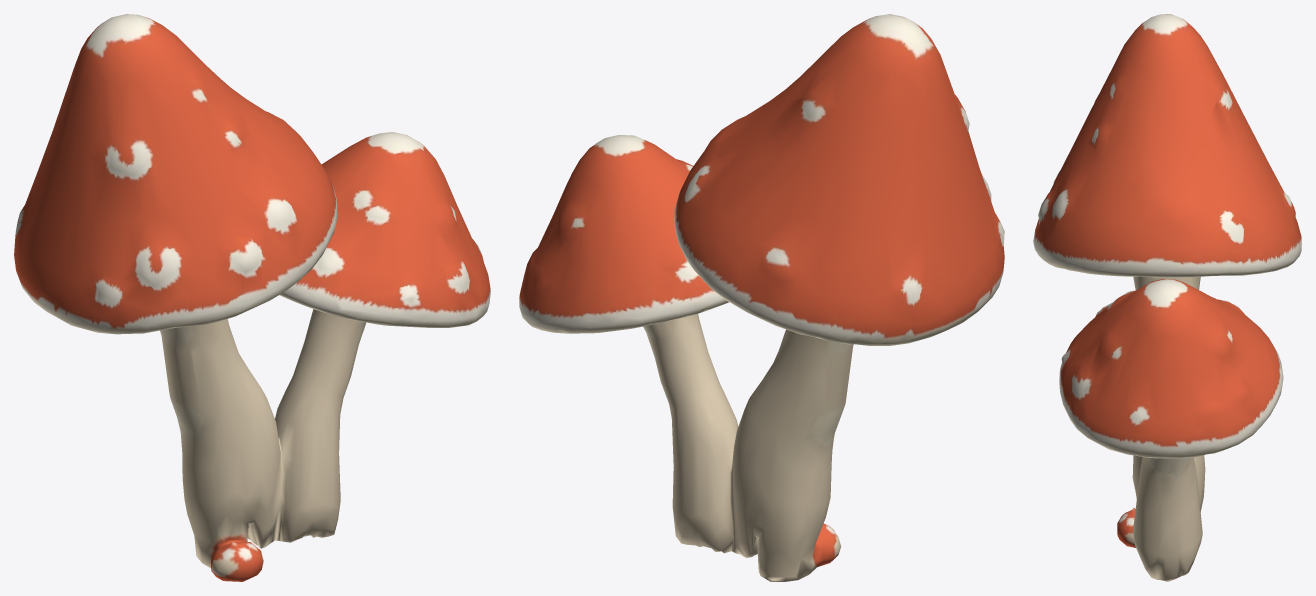
The model's file is mushroom-cluster_final.glb.
3 views of the same model, side by side, from view 1: azimuth 30°, elevation 25°; view 2: azimuth 150°, elevation 25°; view 3: azimuth 270°, elevation 25° (orthographic). The views are drawn at different scales.
Visible parts, largest first — view 1: SM_MushroomCluster; view 2: SM_MushroomCluster; view 3: SM_MushroomCluster.
Boxes of the visible parts, x1,y1,x2,y2 form: SM_MushroomCluster: (14, 14, 490, 581); SM_MushroomCluster: (519, 14, 1004, 581); SM_MushroomCluster: (1033, 14, 1301, 581).
Bounding box in the file's own units: 0.3581 × 0.4459 × 0.2245.
1 material, 1 textured.
